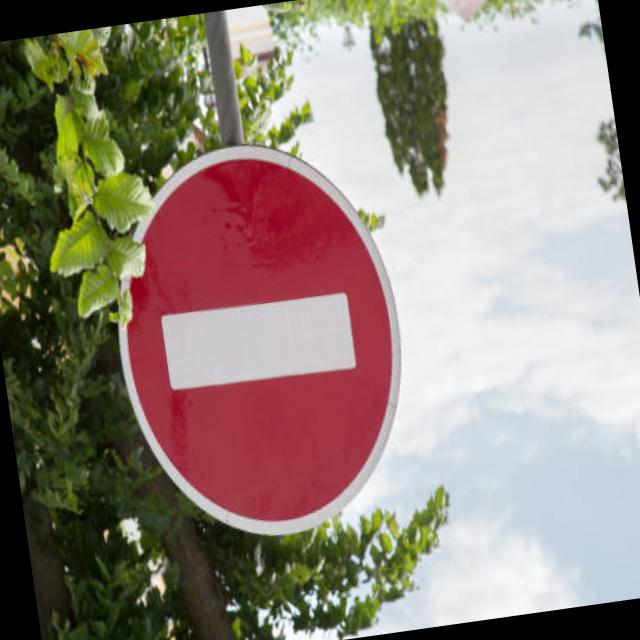do_not_enter: (87, 124, 438, 557)
